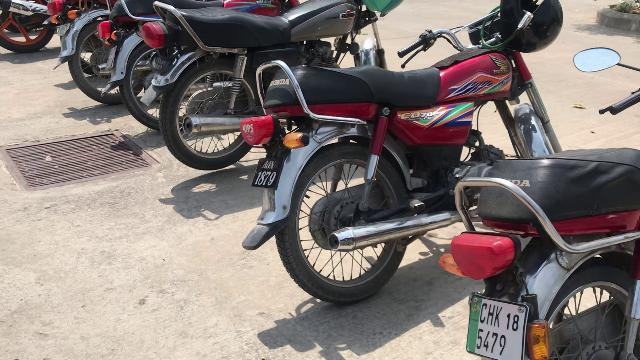plate: (463, 292, 529, 360)
